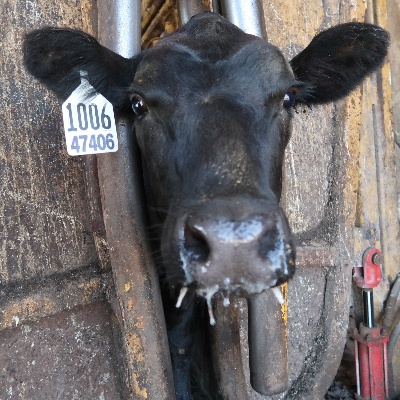fidget_spinner: (174, 204, 302, 311)
